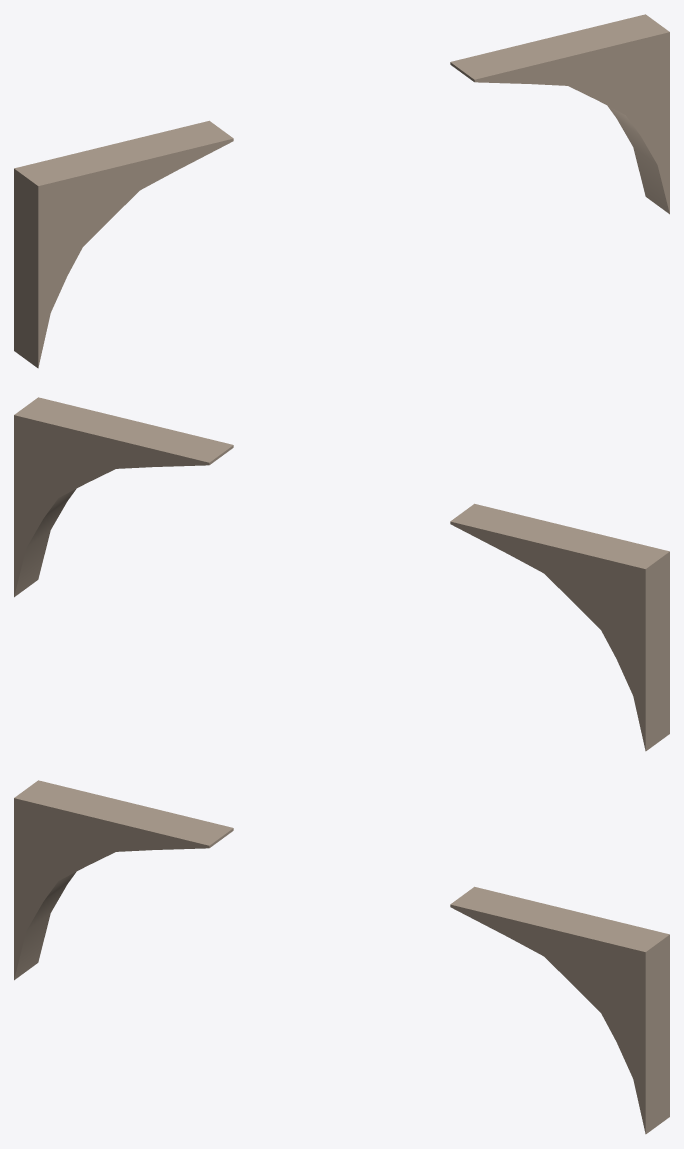
File: Archtop.FBX
3 views of the same model, one above another, from view 1: azimuth 30°, elevation 25°; view 2: azimuth 150°, elevation 25°; view 3: azimuth 330°, elevation 25° (orthographic).
Visible parts, largest first — view 1: Archwaytop; view 2: Archwaytop; view 3: Archwaytop.
Part boxes in pixels (x1,y1,x2,y2): Archwaytop: (14, 14, 669, 368); Archwaytop: (14, 397, 669, 751); Archwaytop: (14, 780, 669, 1134).
Size of the model in its own units: 750 by 207 by 50.
